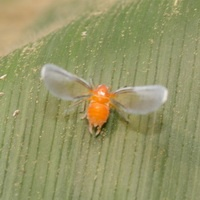insect: (41, 64, 167, 135)
